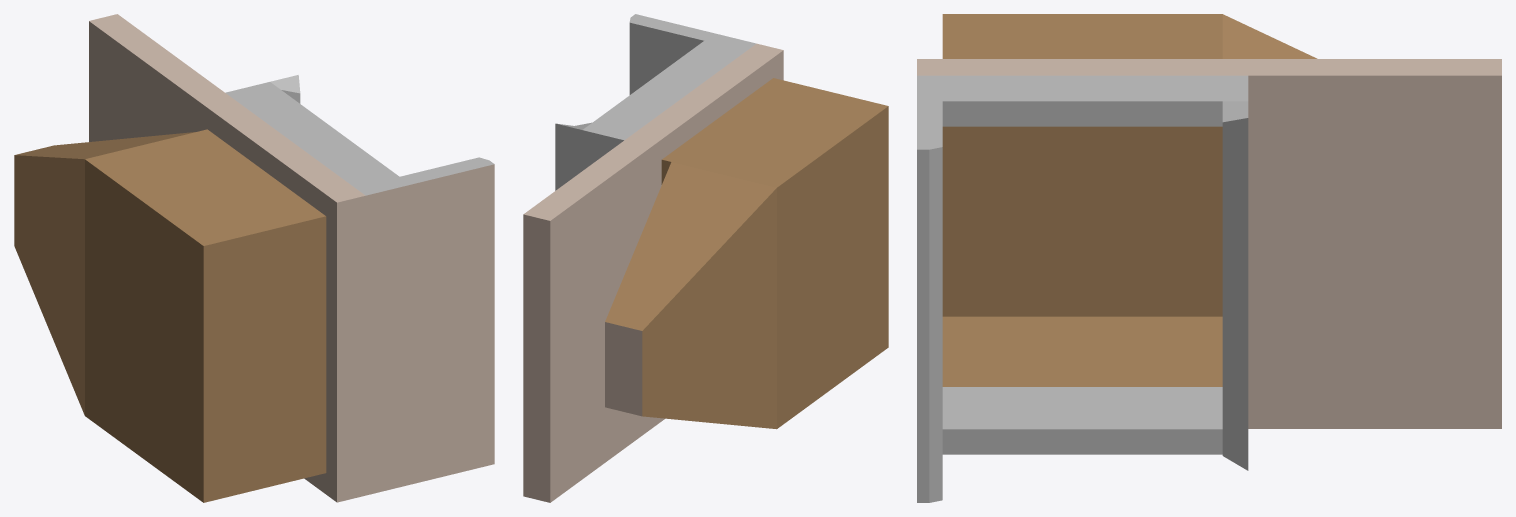
File: WallFireplace.fbx
3 views of the same model, side by side, from view 1: azimuth 30°, elevation 25°; view 2: azimuth 150°, elevation 25°; view 3: azimuth 270°, elevation 25° (orthographic). The views are drawn at different scales.
Visible parts, largest first — view 1: Wall_Fireplace; view 2: Wall_Fireplace; view 3: Wall_Fireplace.
Part boxes in pixels (<box>): Wall_Fireplace: <box>14,14,494,502</box>; Wall_Fireplace: <box>523,14,888,502</box>; Wall_Fireplace: <box>917,14,1501,502</box>.
Bounding box in the file's own units: 3 × 2 × 1.95.
